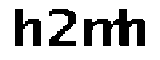2: (44, 5, 80, 50)
h: (7, 3, 44, 50), (120, 5, 149, 50)
m: (81, 13, 122, 49)
